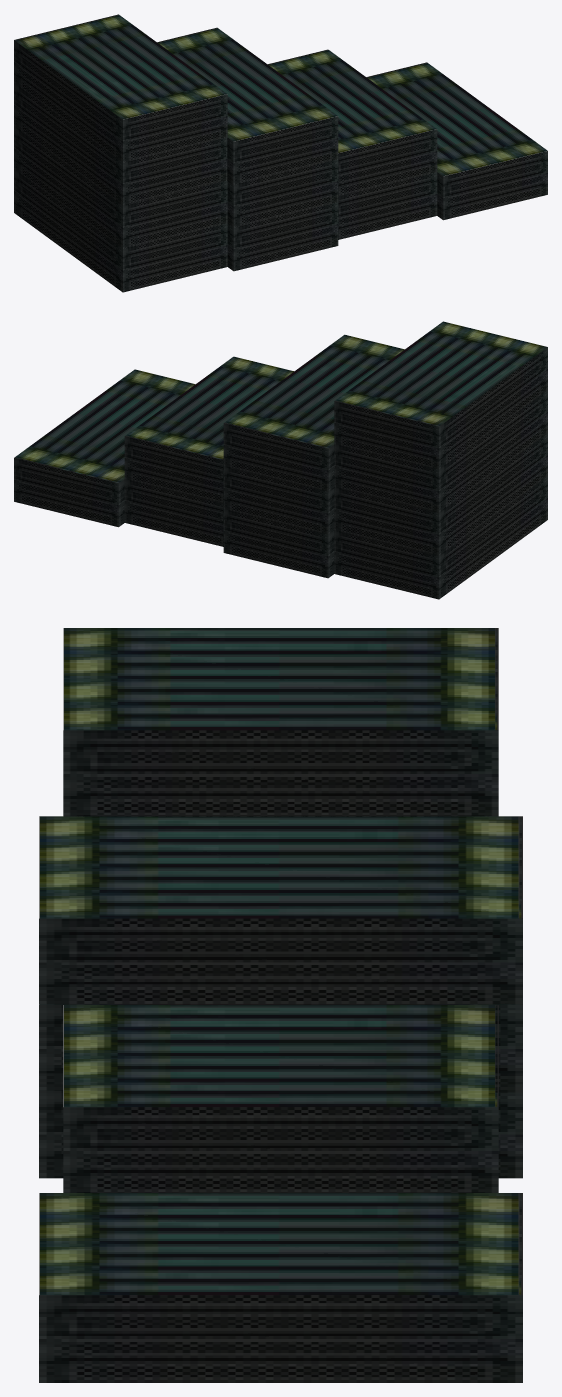
The model's file is mini_stairs.fbx.
3 views of the same model, one above another, from view 1: azimuth 30°, elevation 25°; view 2: azimuth 150°, elevation 25°; view 3: azimuth 270°, elevation 25° (orthographic). The views are drawn at different scales.
Parts seen in each view (by area): view 1: Cube.001; view 2: Cube.001; view 3: Cube.001.
Part boxes in pixels (box(x1,y1,x2,y2)): Cube.001: box(14, 14, 547, 292); Cube.001: box(14, 321, 547, 599); Cube.001: box(39, 628, 522, 1382).
Bounding box in the file's own units: 800 × 315 × 400.
1 material, 1 textured.
